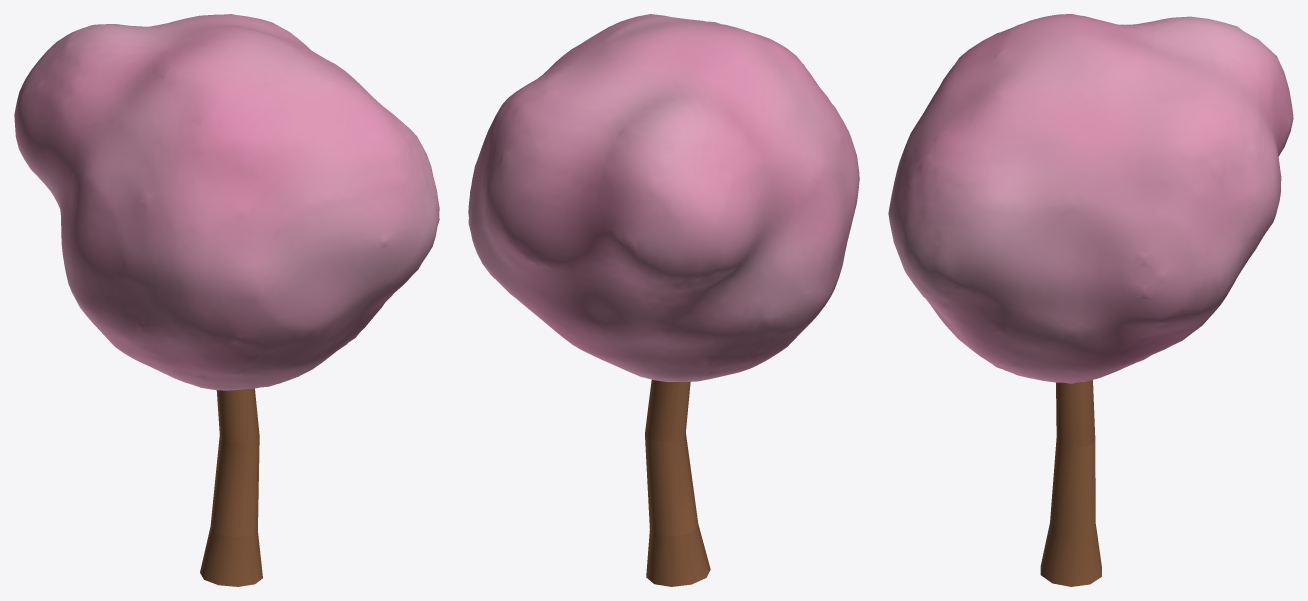
File: tree_blossom.glb
3 renders of one model, left to right at view 1: azimuth 30°, elevation 25°; view 2: azimuth 150°, elevation 25°; view 3: azimuth 270°, elevation 25°, orthographic. The views are drawn at different scales.
Visible parts, largest first — view 1: tree_blossom_crown, tree_blossom_trunk; view 2: tree_blossom_crown, tree_blossom_trunk; view 3: tree_blossom_crown, tree_blossom_trunk.
Boxes of the visible parts, x1,y1,x2,y2 form: tree_blossom_crown: [14, 14, 439, 390]; tree_blossom_trunk: [200, 388, 262, 586]; tree_blossom_crown: [468, 14, 859, 381]; tree_blossom_trunk: [645, 380, 710, 586]; tree_blossom_crown: [888, 14, 1293, 383]; tree_blossom_trunk: [1040, 380, 1101, 586].
Bounding box in the file's own units: 2.38 × 3.89 × 2.65.
